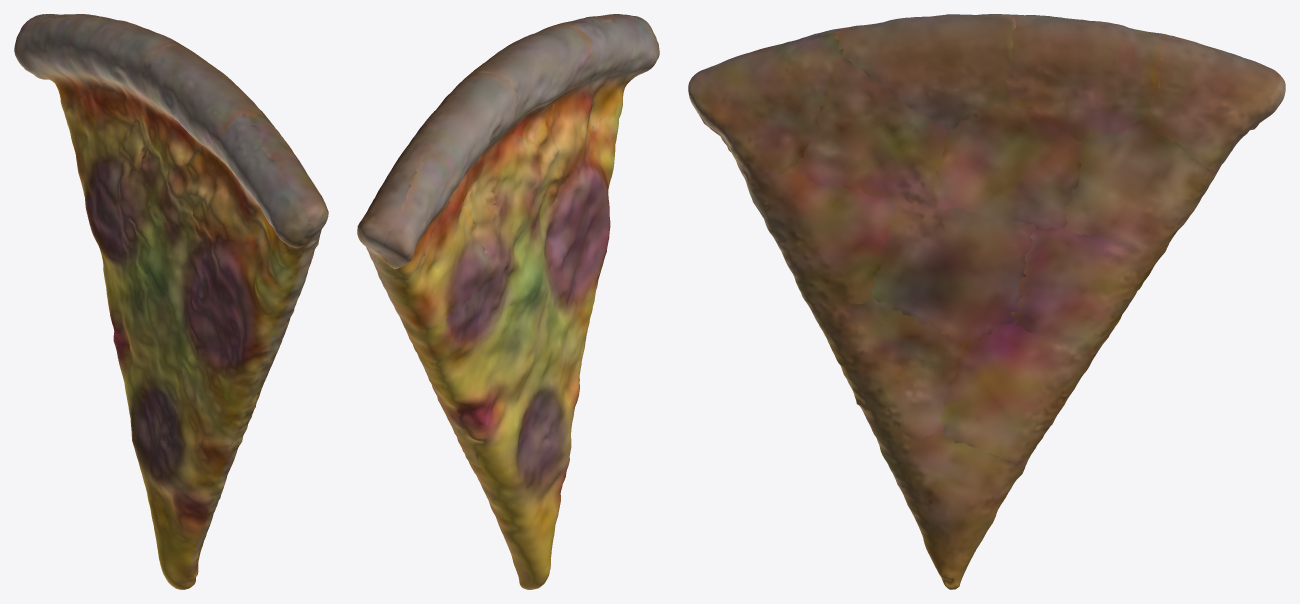
Rendered from pizza.glb.
The picture shows the model from 3 angles, left to right: view 1: azimuth 30°, elevation 25°; view 2: azimuth 150°, elevation 25°; view 3: azimuth 270°, elevation 25°; orthographic projection. The views are drawn at different scales.
Visible parts, largest first — view 1: Mesh1; view 2: Mesh1; view 3: Mesh1.
Boxes of the visible parts, bbox=[...] form: Mesh1: bbox=[14, 14, 328, 589]; Mesh1: bbox=[357, 14, 659, 589]; Mesh1: bbox=[688, 14, 1285, 589].
Bounding box in the file's own units: 0.1712 × 1.18 × 1.11.
1 material, 1 textured.
